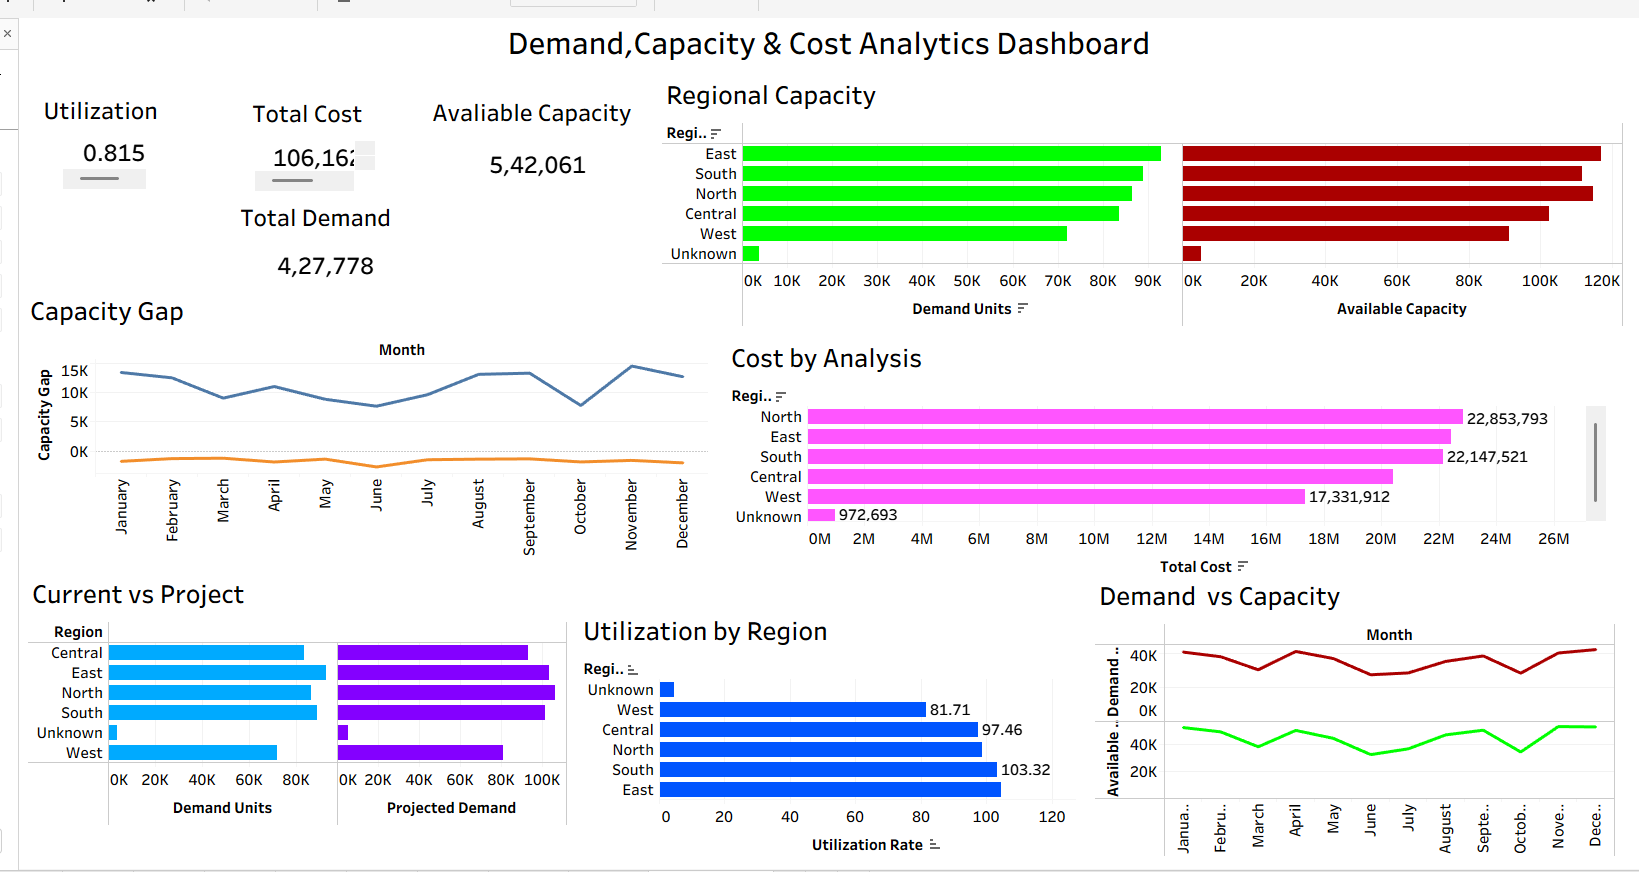

The dashboard page shown, as its layout file describes it:
{"tool":"tableau","page":{"name":"Dashboard 1","canvas":[1620,860],"ordinal":0},"visuals":[{"type":"title","box":[8,8,1604,49]},{"type":"worksheet","title":"Sheet 6","mark":"Automatic","rows":["region"],"cols":["demand_units","available_capacity"],"box":[643,64,961,259]},{"type":"text","box":[21,85,122,32]},{"type":"text","box":[410,87,206,32]},{"type":"text","box":[230,88,117,32]},{"type":"worksheet","title":"Sheet 4","mark":"Automatic","box":[44,127,83,63]},{"type":"worksheet","title":"Sheet 3","mark":"Automatic","box":[236,132,120,50]},{"type":"worksheet","title":"Sheet 2","mark":"Automatic","box":[451,139,121,53]},{"type":"text","box":[218,192,158,32]},{"type":"worksheet","title":"Sheet 1","mark":"Automatic","box":[239,240,153,49]},{"type":"worksheet","title":"Sheet 10","mark":"Automatic","rows":["capacity_gap"],"cols":["month"],"box":[7,280,682,284]},{"type":"worksheet","title":"Sheet 8","mark":"Automatic","rows":["region"],"cols":["total_cost"],"box":[708,327,879,248]},{"type":"worksheet","title":"Sheet 11","mark":"Automatic","rows":["region"],"cols":["demand_units","projected_demand"],"box":[9,563,540,284]},{"type":"worksheet","title":"Sheet 5","mark":"Automatic","rows":["demand_units","available_capacity"],"cols":["month"],"box":[1076,565,520,284]},{"type":"worksheet","title":"Sheet 7","mark":"Automatic","rows":["region"],"cols":["utilization_rate"],"box":[560,600,497,255]}]}

Visuals, with their boxes on the page's 1620x860 design canvas (x1, y1, x2, y2). These are canvas units, not pixel positions in the 1639x872 screenshot, which may show the page scaled, cropped or inside an application window:
title: (8, 8, 1612, 57)
"Sheet 6" worksheet: (643, 64, 1604, 323)
text: (21, 85, 143, 117)
text: (410, 87, 616, 119)
text: (230, 88, 347, 120)
"Sheet 4" worksheet: (44, 127, 127, 190)
"Sheet 3" worksheet: (236, 132, 356, 182)
"Sheet 2" worksheet: (451, 139, 572, 192)
text: (218, 192, 376, 224)
"Sheet 1" worksheet: (239, 240, 392, 289)
"Sheet 10" worksheet: (7, 280, 689, 564)
"Sheet 8" worksheet: (708, 327, 1587, 575)
"Sheet 11" worksheet: (9, 563, 549, 847)
"Sheet 5" worksheet: (1076, 565, 1596, 849)
"Sheet 7" worksheet: (560, 600, 1057, 855)
